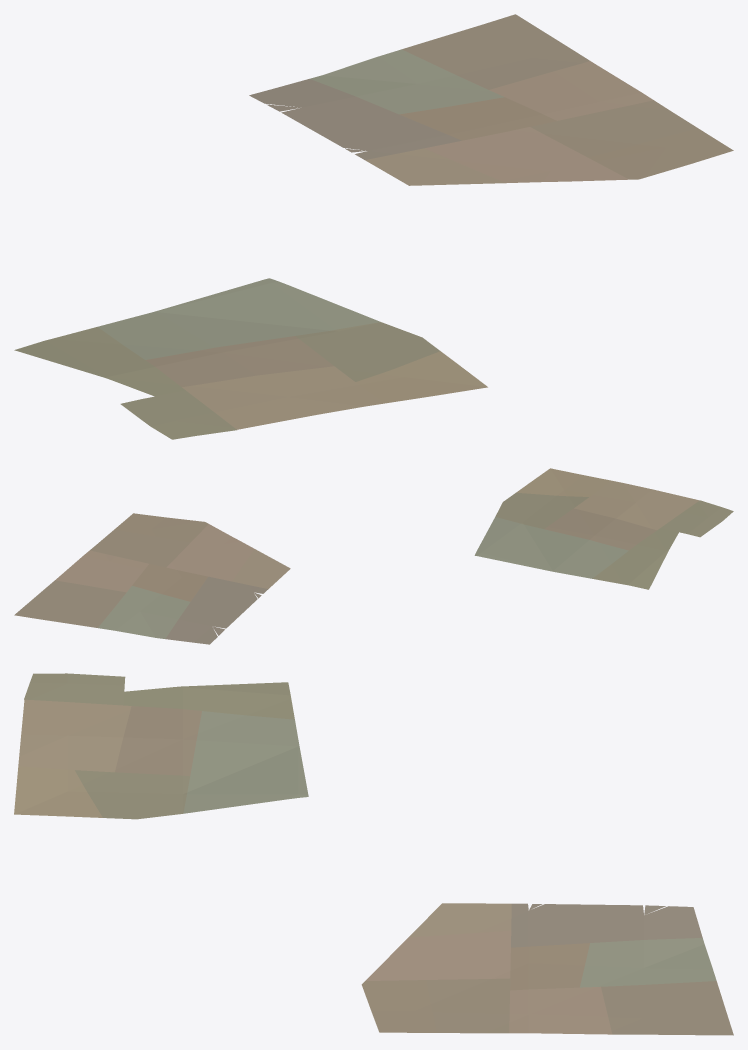
Rendered from farm_4_16_soil.glb.
3 renders of one model, top to bottom at view 1: azimuth 30°, elevation 25°; view 2: azimuth 150°, elevation 25°; view 3: azimuth 270°, elevation 25°, orthographic. The views are drawn at different scales.
Parts seen in each view (by area): view 1: geometry_0; view 2: geometry_0; view 3: geometry_0.
Boxes of the visible parts, bbox=[...] form: geometry_0: bbox=[14, 14, 733, 439]; geometry_0: bbox=[14, 468, 733, 644]; geometry_0: bbox=[14, 673, 733, 1035].
Bounding box in the file's own units: 536 × 35.08 × 499.
